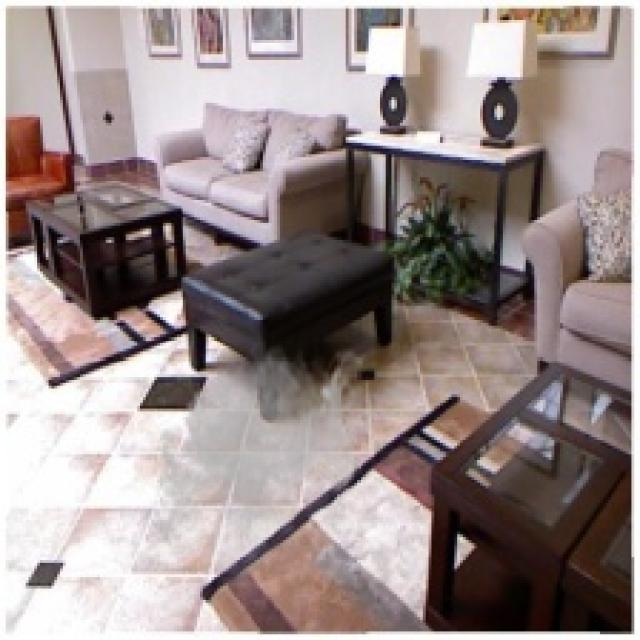smoke: (146, 343, 363, 574)
